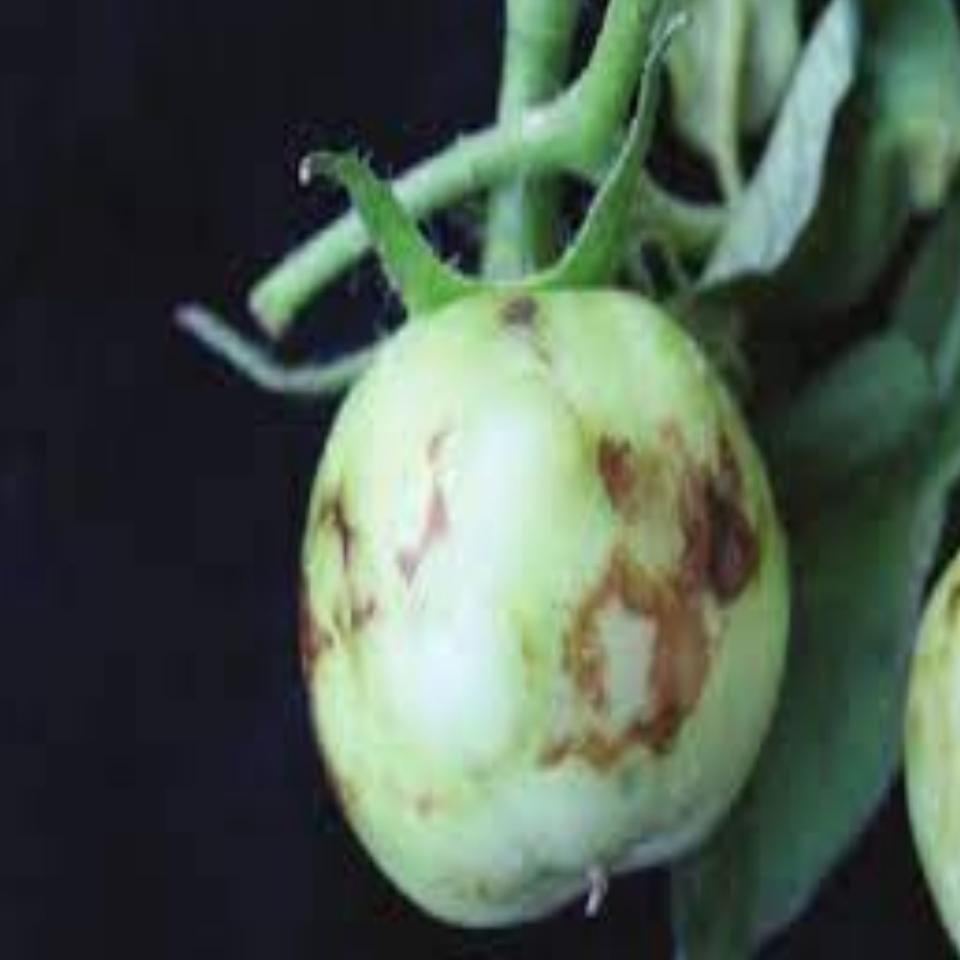Spotted wilt Virus: (300, 289, 789, 935)
